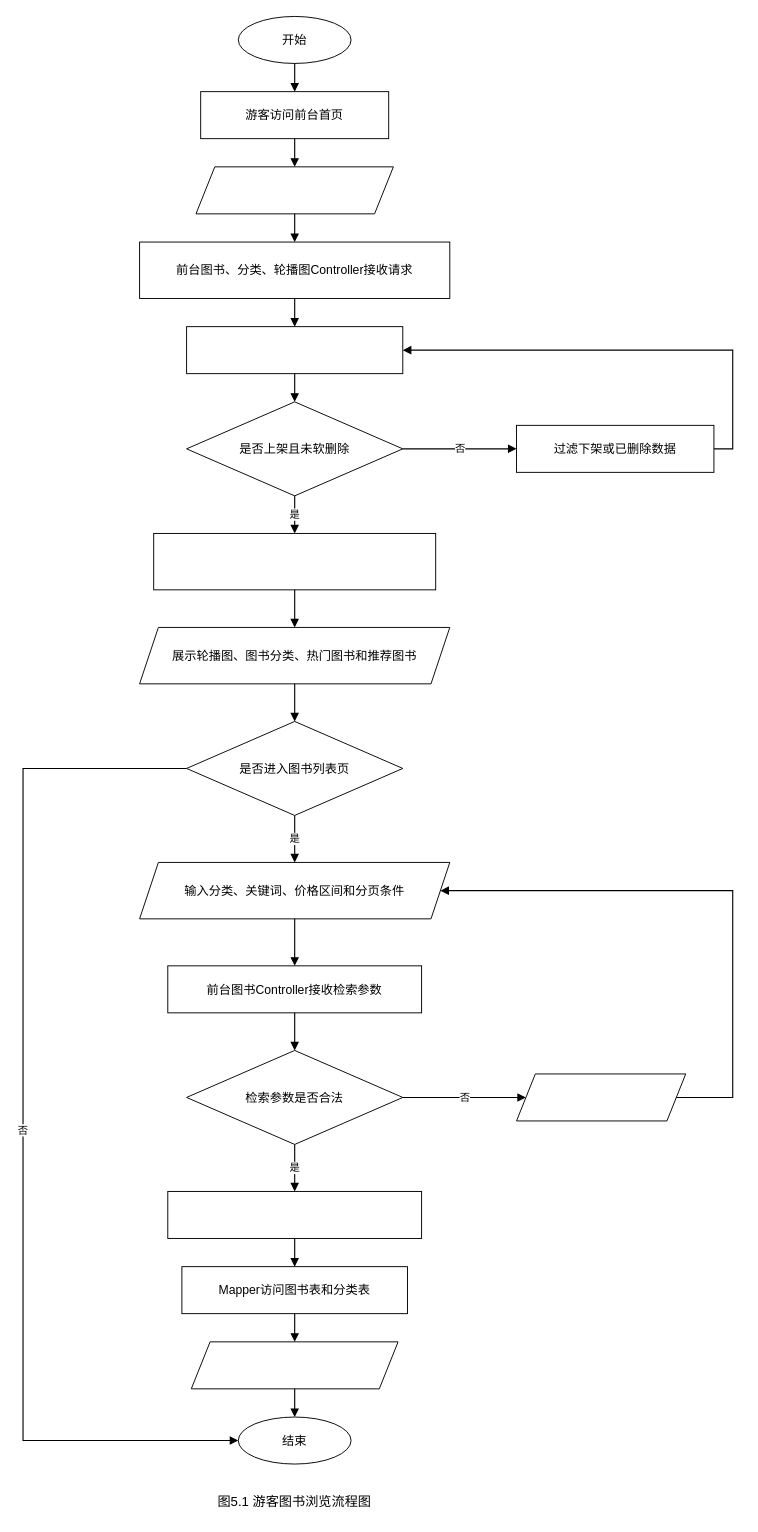
Some shapes in this 758 by 1532 pixel diagram are drawn without their labels. The shapes that lost their labels are listed below. From the top down, each one's centre as x and y in pixels, then its label:
At point 294,190: "请求首页公开数据".
At point 294,350: "Service查询首页展示数据".
At point 294,561: "Mapper访问图书表、分类表、轮播图表".
At point 601,1097: "提示参数错误".
At point 294,1214: "Service组合检索条件并过滤数据".
At point 294,1365: "返回并展示图书列表".
